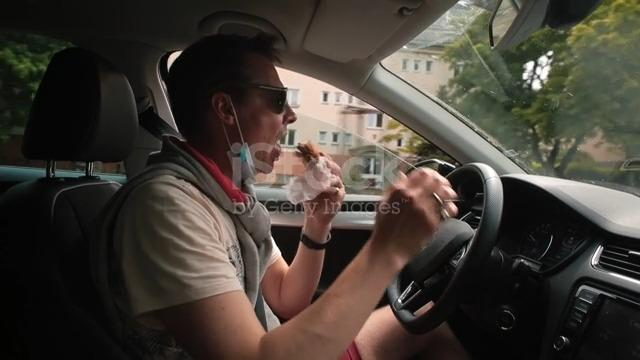Eating: (153, 32, 358, 217)
